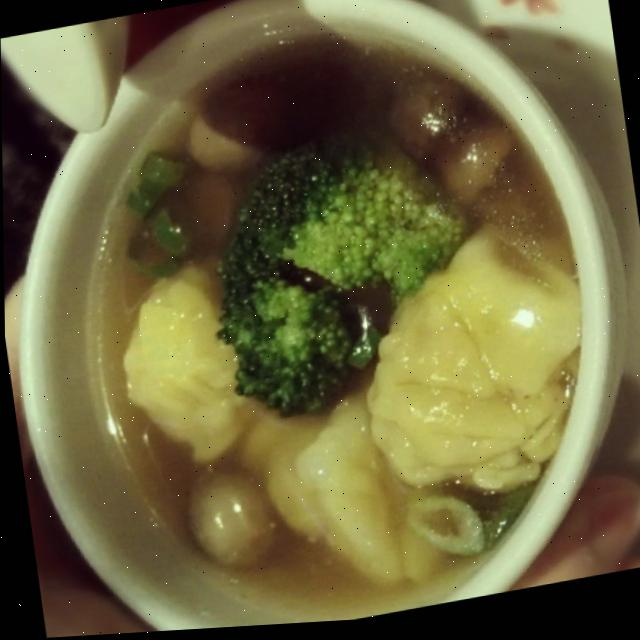汤锅炖物: (43, 0, 618, 638)
